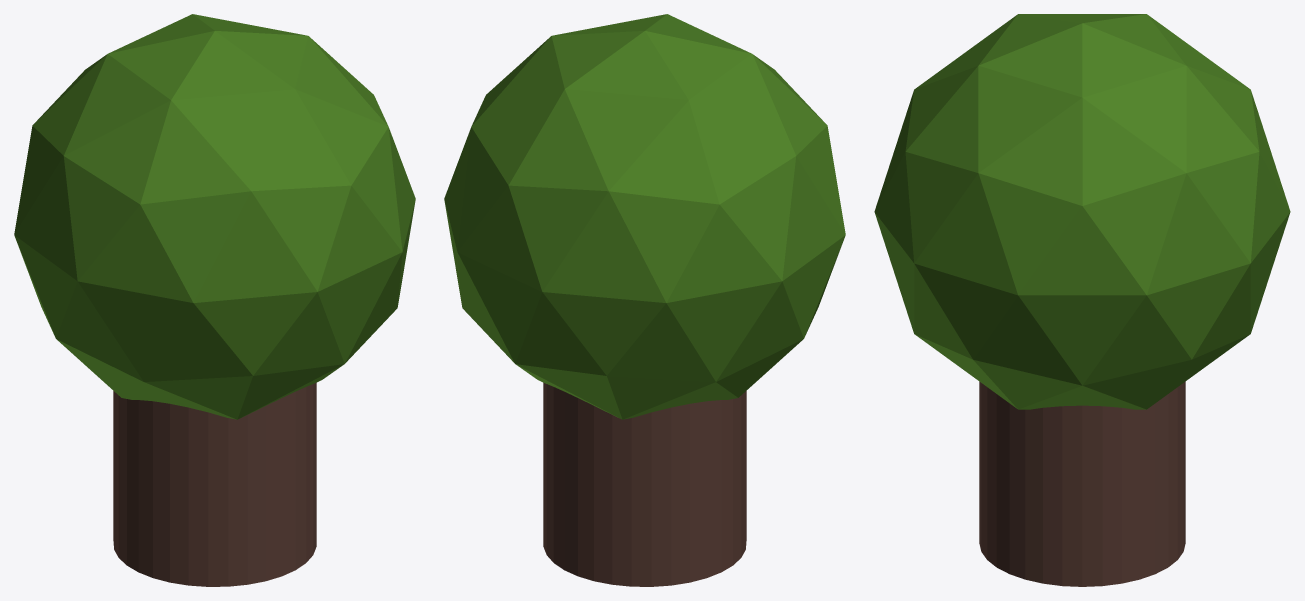
Rendered from low-poly-tree.glb.
3 renders of one model, left to right at view 1: azimuth 30°, elevation 25°; view 2: azimuth 150°, elevation 25°; view 3: azimuth 270°, elevation 25°, orthographic.
Visible parts, largest first — view 1: Icosphere, Cylinder; view 2: Icosphere, Cylinder; view 3: Icosphere, Cylinder.
Part boxes in pixels (x1,y1,x2,y2): Icosphere: [14, 14, 415, 419]; Cylinder: [113, 382, 316, 586]; Icosphere: [444, 14, 845, 419]; Cylinder: [543, 382, 746, 586]; Icosphere: [874, 14, 1290, 409]; Cylinder: [979, 381, 1185, 586].
Bounding box in the file's own units: 3.84 × 5.57 × 4.04.
